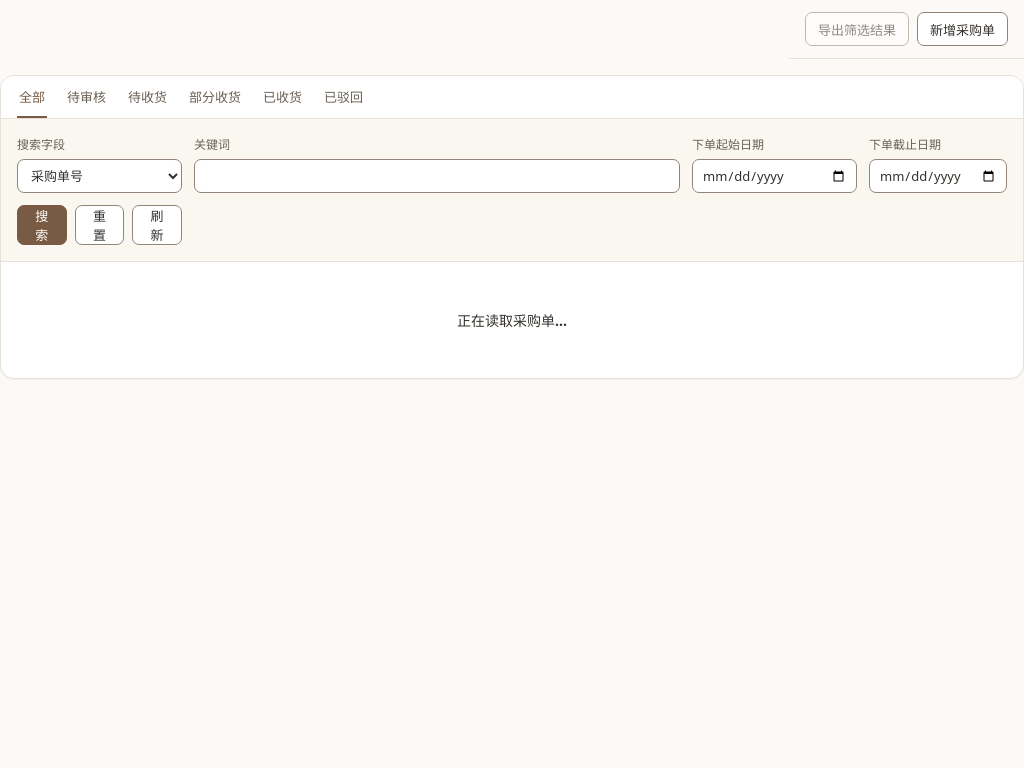
Test case: procurement order page › offers atomic supplier creation when a SKU has no sourcing relationship
Click the button "新增采购单" at (962, 29), box [917, 12, 1008, 46]
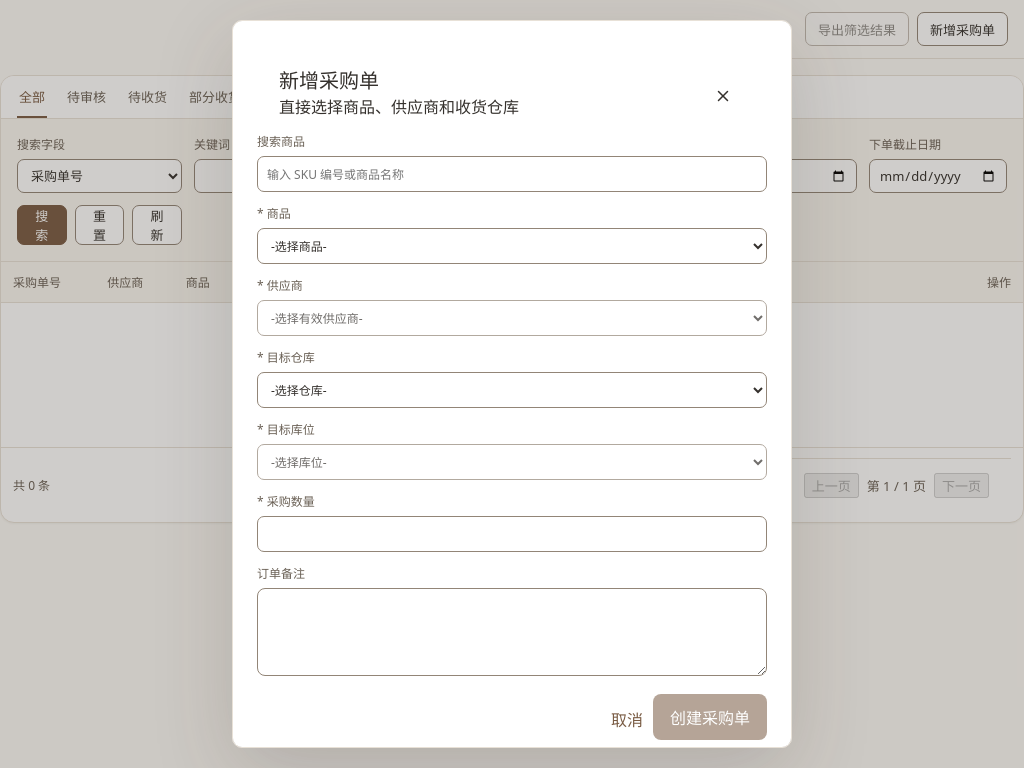
Select "SKU-1 · 商品" in the dropdown labelled "商品" at (512, 246), box [257, 228, 767, 264]
(page scrolled)
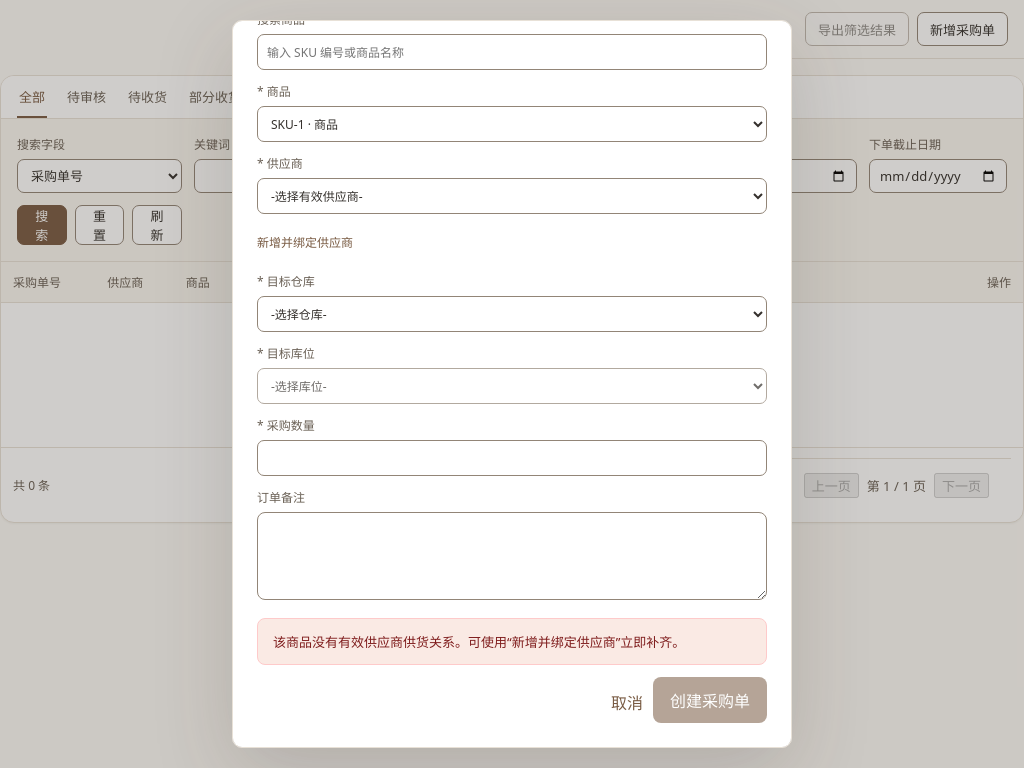
Expected: the button "新增并绑定供应商" is shown, [257, 224, 353, 260]
Expected: the text "该商品没有有效供应商供货关系。可使用“新增并绑定供应商”立即补齐。" is shown, [257, 618, 767, 665]
